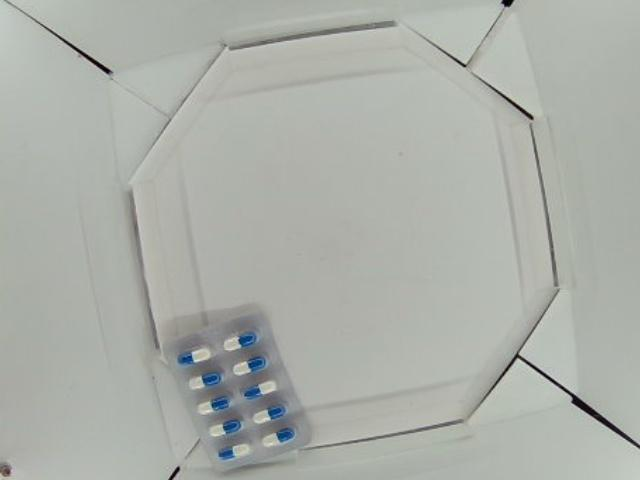Medicine: (163, 311, 313, 468)
